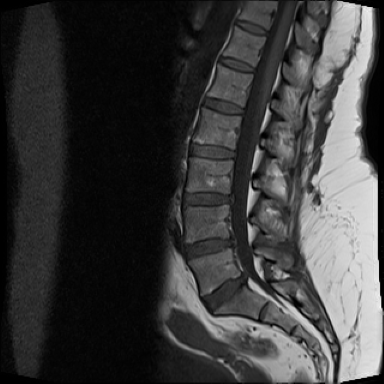Lumbar Disc Bulge (LDB): (196, 268, 253, 319), (179, 231, 240, 265), (178, 187, 241, 212)
Normal IVD: (196, 93, 247, 120), (187, 143, 237, 163), (213, 55, 257, 76), (231, 20, 272, 39)
Spinal Stenosis (SS): (224, 231, 238, 253), (236, 270, 251, 290), (226, 190, 237, 206)
